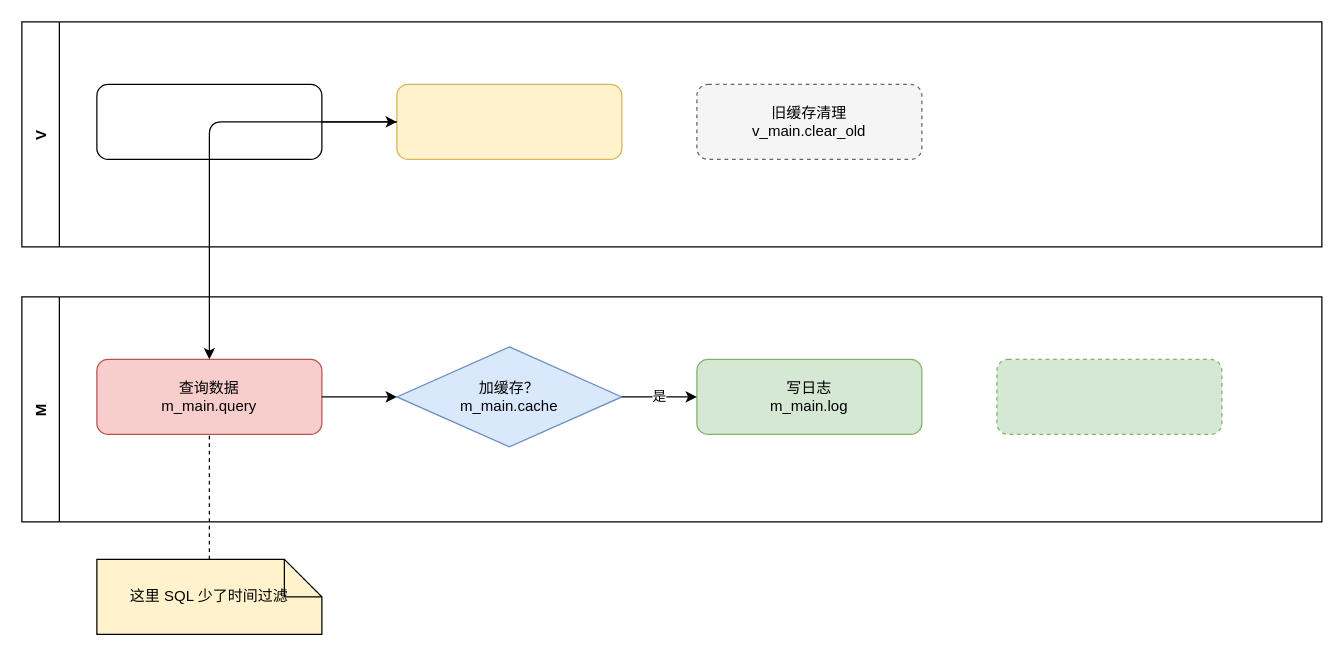
Image size: 1344x656. Some labels were removed from this diagram. Each missing label, with the centre of its shape:
"旧导出 m_main.export_v1" belongs at pixel 1109 396.
"校验输入 v_main.check_input" belongs at pixel 509 121.
"点击刷新 v_main.on_refresh" belongs at pixel 209 121.
